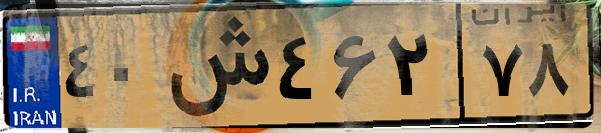0: (110, 28, 158, 98)
2: (385, 28, 445, 110)
4: (270, 28, 330, 110), (57, 26, 110, 100)
6: (330, 28, 385, 110)
7: (475, 38, 525, 113)
8: (525, 38, 570, 115)
ش: (158, 12, 270, 120)
